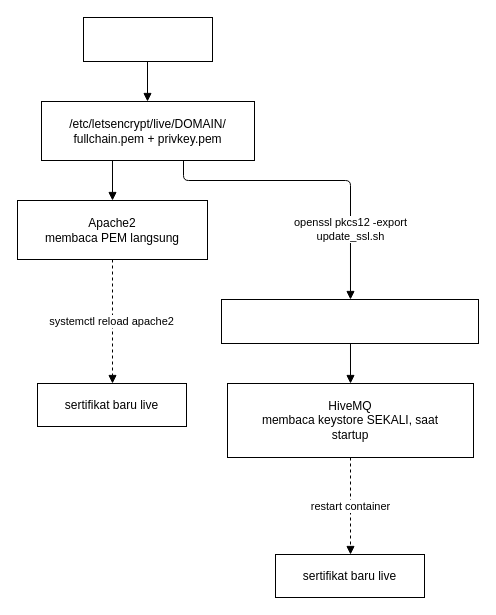
Image size: 496x615. Some labels were removed from this diagram. Here are the shapes that lost their labels. From the top down, the box of each, then its label:
(82, 16, 212, 62): certbot renew
(220, 298, 478, 344): /srv/msd/secrets/hivemq/keystore.p12
